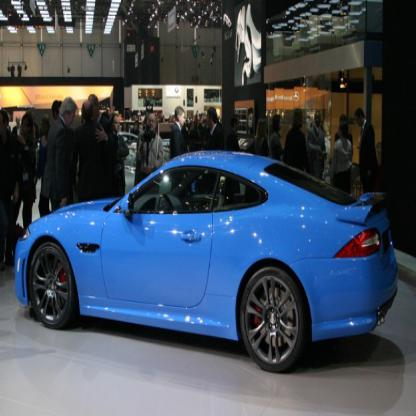Vehicle: (13, 150, 400, 375)
